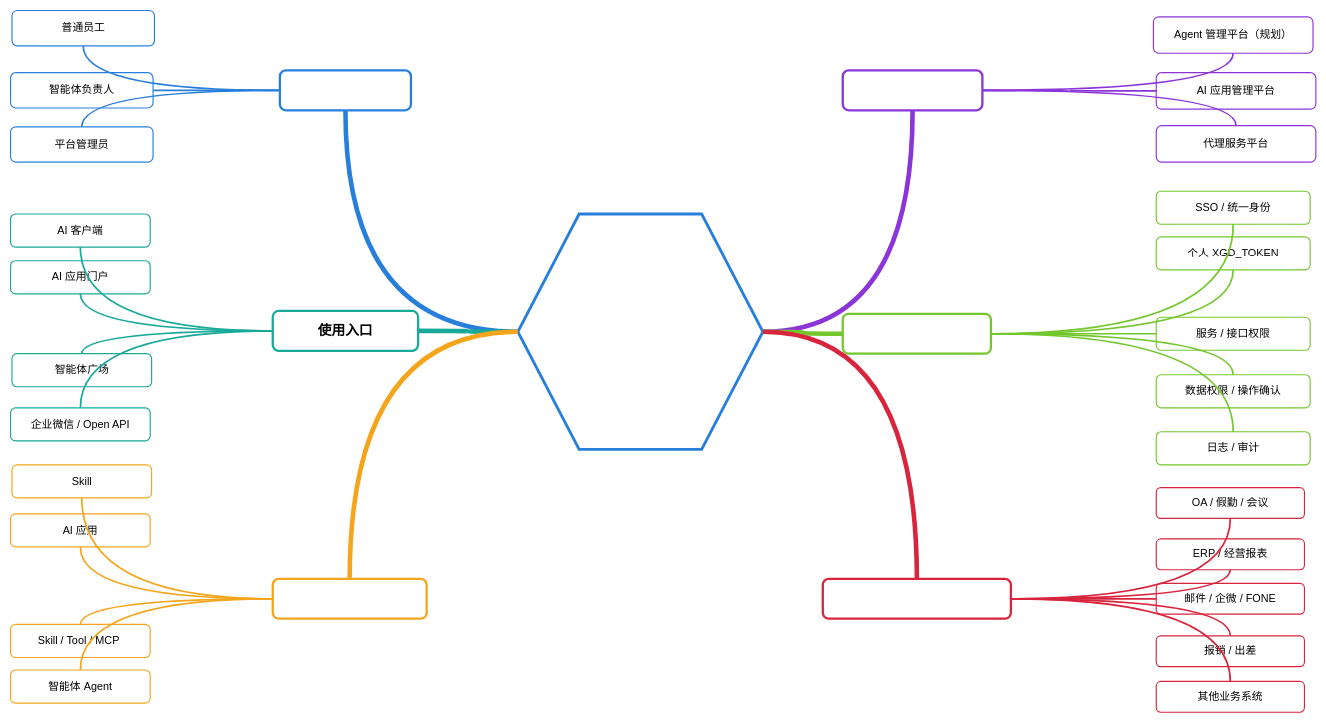
Some shapes in this 1326 by 722 pixel diagram are drawn without their labels. Here are the shapes that lost their labels. From the top down, the centre of each, then its label:
At point (345, 90): "用户角色".
At point (912, 90): "平台分层".
At point (640, 331): "XGD AI Agent 企业能力体系 用户 × 能力 × 平台 × 数据".
At point (916, 333): "身份与安全".
At point (349, 598): "AI 能力资产".
At point (916, 598): "业务数据与系统".
